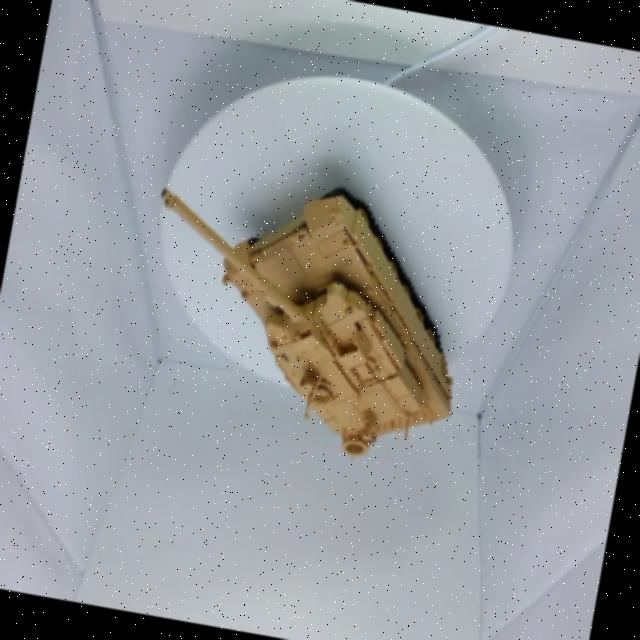korea tank: (94, 128, 510, 496)
